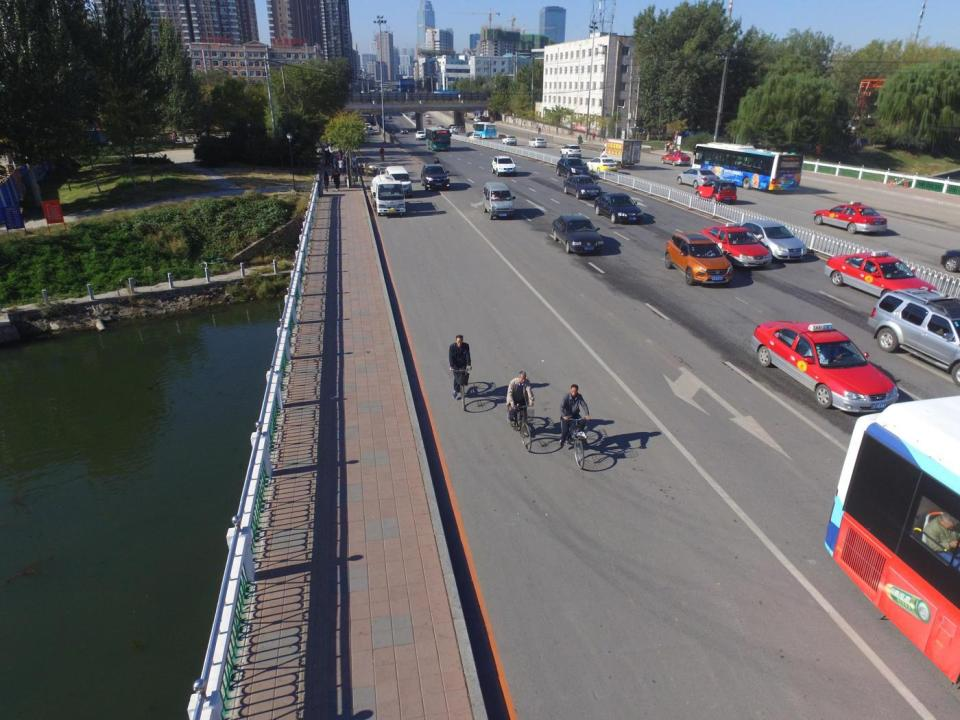bus: (692, 141, 804, 192), (424, 127, 456, 155), (472, 121, 498, 140)
car: (748, 316, 899, 413), (824, 248, 942, 312), (664, 226, 736, 289), (698, 222, 774, 270), (739, 215, 809, 265), (814, 199, 893, 236), (549, 212, 606, 255), (590, 192, 648, 232), (695, 178, 741, 206), (561, 175, 603, 201), (418, 162, 450, 194), (678, 168, 719, 192), (555, 156, 591, 179), (585, 156, 620, 174), (660, 150, 693, 167), (491, 154, 516, 176), (560, 143, 582, 160), (528, 137, 548, 148), (500, 134, 518, 146), (468, 132, 482, 142), (458, 124, 468, 135), (414, 130, 425, 139), (448, 126, 460, 134), (365, 127, 374, 136), (449, 124, 459, 132), (466, 131, 477, 138), (399, 127, 409, 134), (364, 122, 372, 130), (409, 112, 417, 119), (437, 124, 446, 130), (386, 114, 392, 121), (425, 112, 431, 118), (426, 119, 431, 125), (420, 111, 425, 115)
truck: (368, 174, 409, 218), (598, 136, 643, 168)
van: (866, 290, 960, 386), (482, 181, 517, 223), (386, 165, 417, 199)
